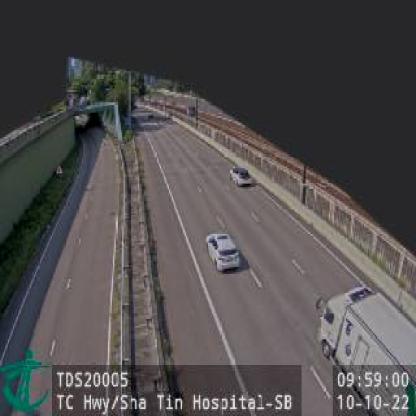Bus: (319, 282, 416, 416)
Car: (205, 230, 242, 272), (229, 166, 253, 186)
